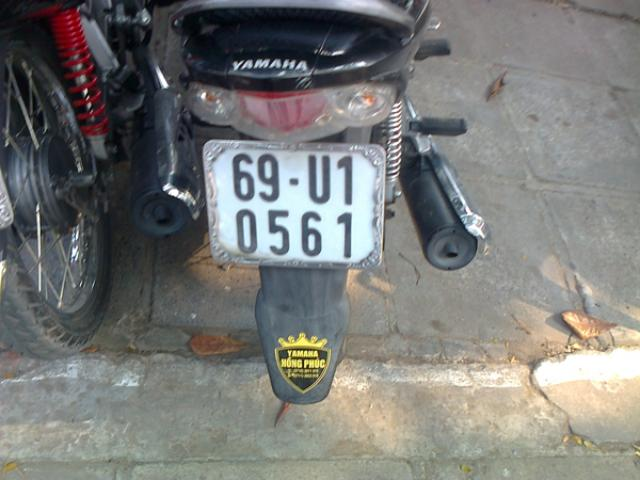plate: (213, 144, 383, 264)
